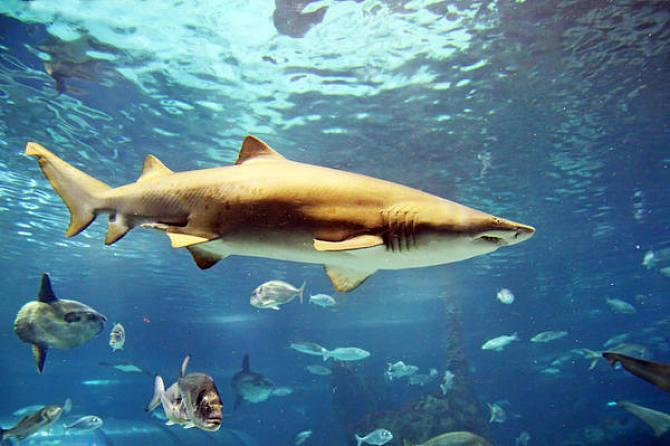fish: (20, 132, 541, 302), (10, 281, 113, 372), (136, 354, 227, 433)
